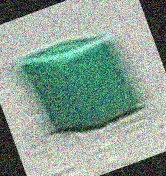green_cube: (16, 31, 145, 141)
